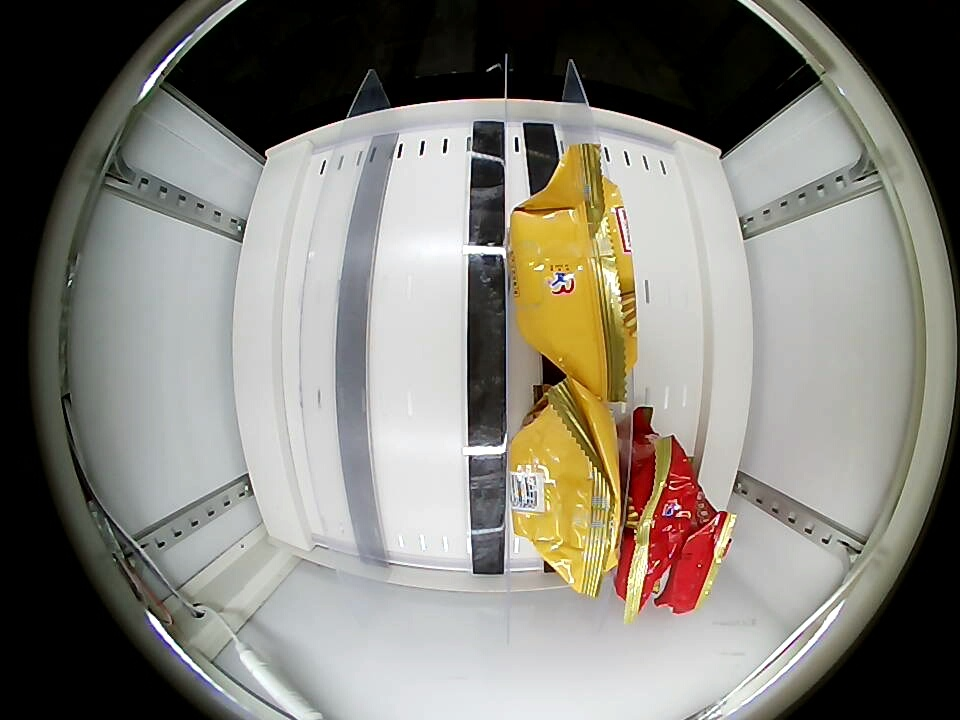kaomo_gali: (509, 202, 636, 394), (508, 383, 620, 585)
kaomo_shaokao: (614, 434, 697, 598), (663, 501, 734, 615)
